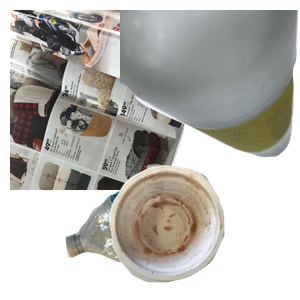glass: (120, 10, 300, 160)
paper: (10, 10, 250, 190)
plastic: (63, 170, 278, 300)
trash: (107, 163, 300, 300)
